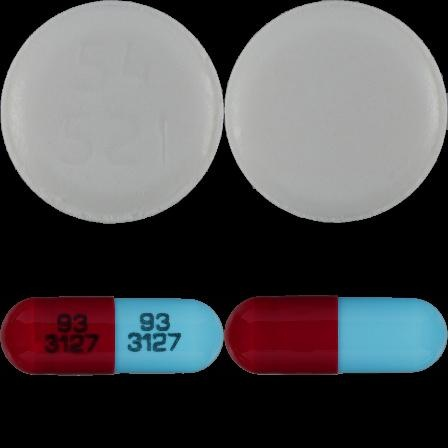68151-3844: (0, 0, 224, 224)
